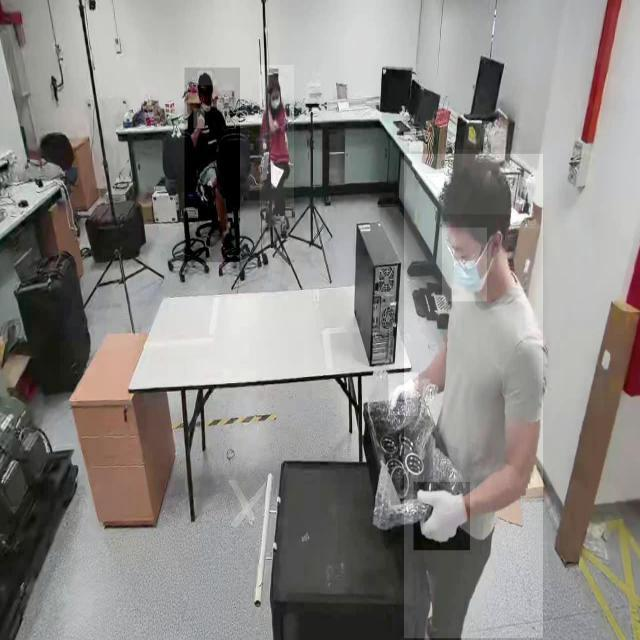gloves: (414, 482, 471, 552), (388, 372, 418, 416)
